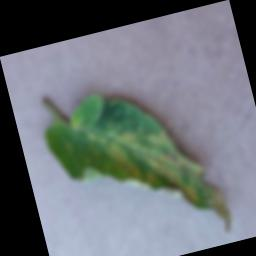Leaf_Mold: (35, 70, 236, 256)
